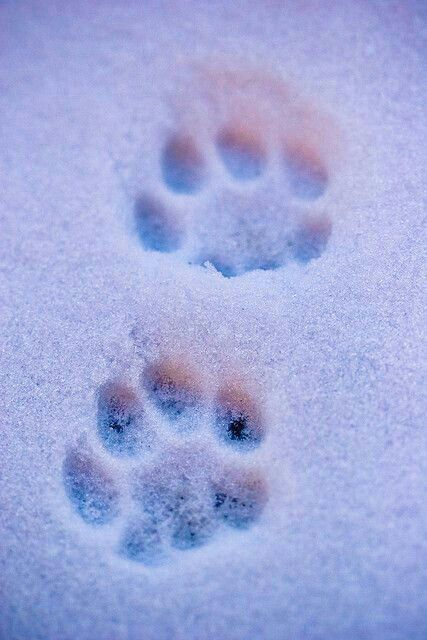cat: (60, 350, 277, 570), (125, 111, 351, 292)
